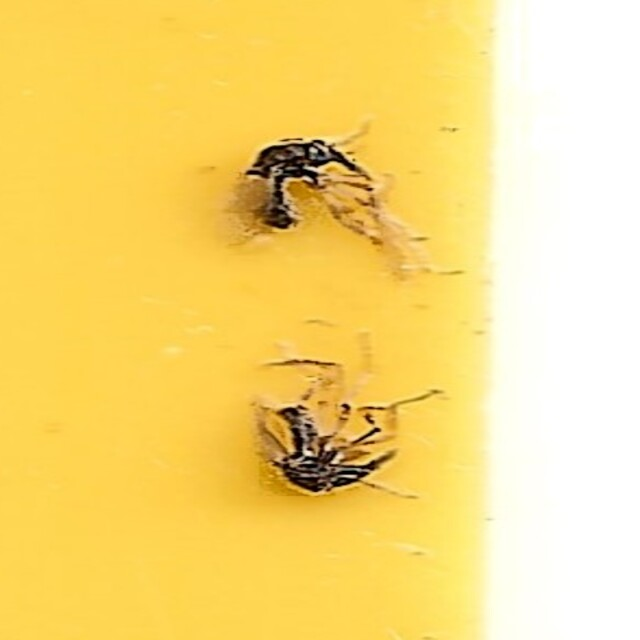Brachycera: (218, 133, 403, 255), (242, 383, 422, 507)
